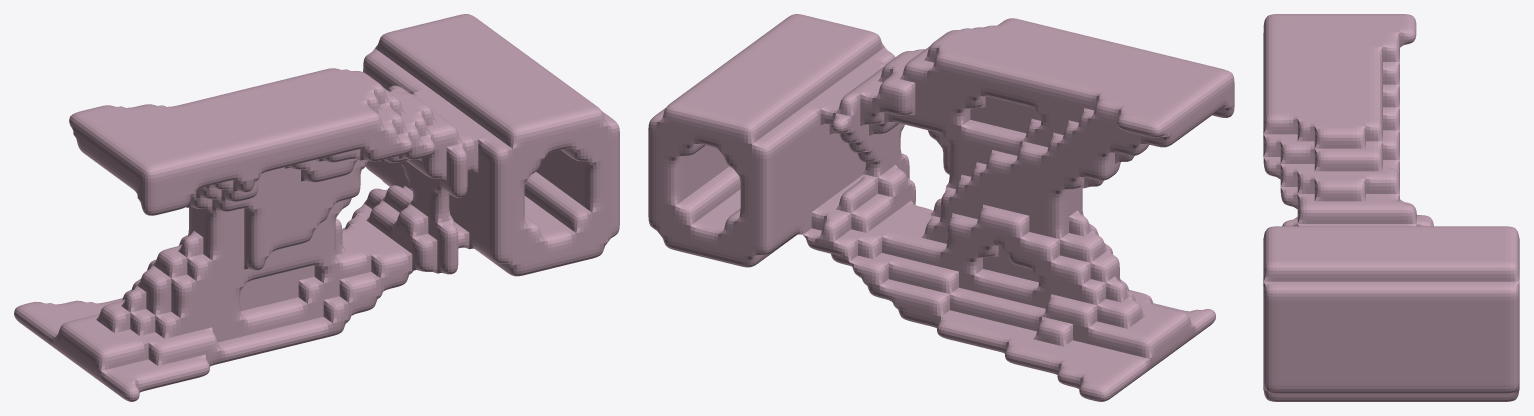
The model's file is mecha_knee_rebuild.glb.
3 renders of one model, left to right at view 1: azimuth 30°, elevation 25°; view 2: azimuth 150°, elevation 25°; view 3: azimuth 270°, elevation 25°, orthographic. The views are drawn at different scales.
Parts seen in each view (by area): view 1: mecha_knee; view 2: mecha_knee; view 3: mecha_knee.
Part boxes in pixels (x1=…): mecha_knee: x1=14, y1=14, x2=619, y2=401; mecha_knee: x1=648, y1=14, x2=1234, y2=401; mecha_knee: x1=1263, y1=14, x2=1519, y2=401.
Size of the model in its own units: 30 by 15 by 15.
